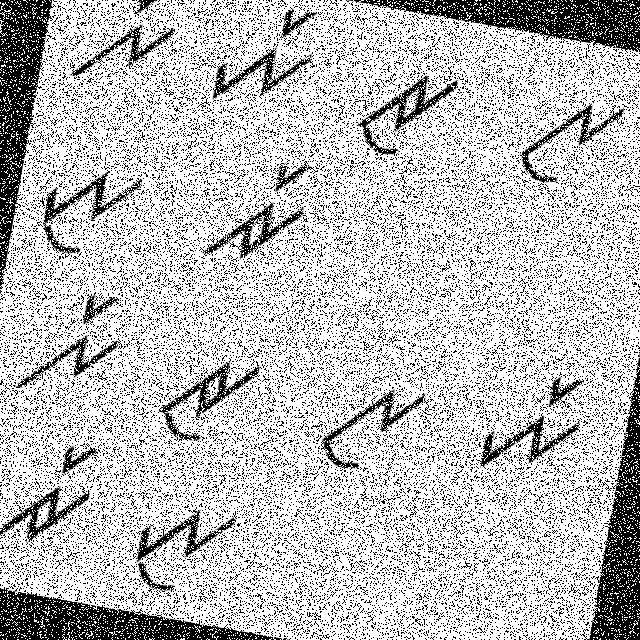lar: (12, 274, 132, 414), (62, 0, 195, 106)
law: (298, 353, 436, 490), (506, 85, 631, 202)
rar: (190, 143, 322, 277), (0, 431, 114, 566)
raw: (146, 330, 269, 456), (354, 51, 464, 168)
yar: (465, 352, 596, 492), (203, 0, 326, 122)
yaw: (119, 484, 248, 610), (25, 148, 149, 270)
